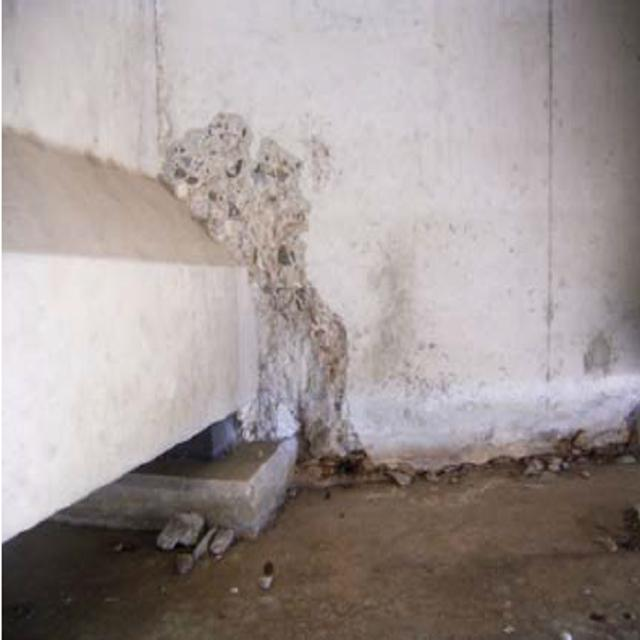spalling: (174, 112, 373, 457)
